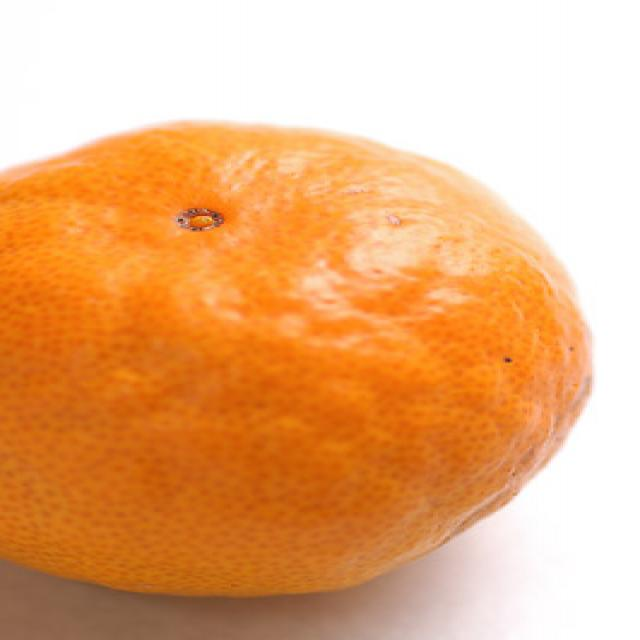Orange: (0, 116, 609, 597)
